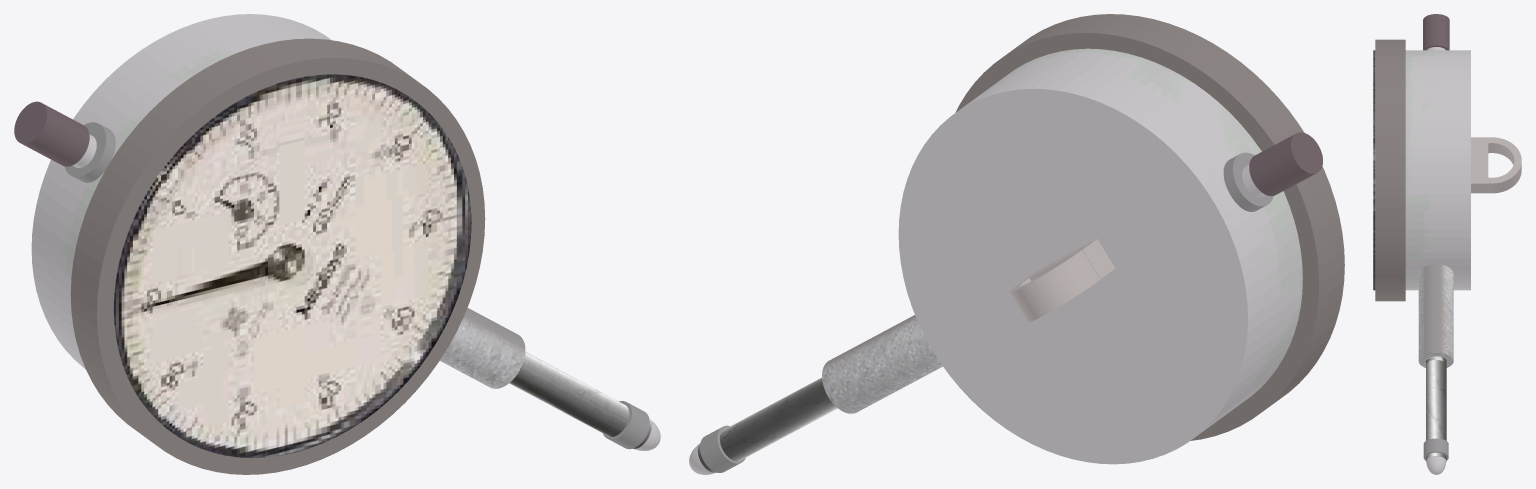
File: model.opt.glb
3 renders of one model, left to right at view 1: azimuth 30°, elevation 25°; view 2: azimuth 150°, elevation 25°; view 3: azimuth 270°, elevation 25°, orthographic. The views are drawn at different scales.
Visible parts, largest first — view 1: root_Material_155_0, root_Material_159_0, root_Material_153_0, root_Material_157_0, root_Material_165_0, root_Material_169_0, root_Material_161_0; view 2: root_Material_155_0, root_Material_159_0, root_Material_157_0, root_Material_153_0, root_Material_171_0, root_Material_165_0, root_Material_169_0, root_Material_161_0, root_Material_173_0; view 3: root_Material_155_0, root_Material_159_0, root_Material_157_0, root_Material_153_0, root_Material_171_0, root_Material_165_0, root_Material_173_0, root_Material_161_0, root_Material_163_0.
Boxes of the visible parts, left/top/right/bottom form: root_Material_155_0: left=31, top=14, right=471, bottom=457; root_Material_159_0: left=70, top=38, right=485, bottom=474; root_Material_153_0: left=509, top=352, right=651, bottom=448; root_Material_157_0: left=440, top=307, right=525, bottom=388; root_Material_165_0: left=14, top=101, right=89, bottom=166; root_Material_169_0: left=64, top=122, right=115, bottom=182; root_Material_161_0: left=603, top=401, right=649, bottom=449; root_Material_155_0: left=898, top=48, right=1302, bottom=464; root_Material_159_0: left=955, top=14, right=1344, bottom=440; root_Material_157_0: left=822, top=315, right=942, bottom=413; root_Material_153_0: left=697, top=377, right=837, bottom=472; root_Material_171_0: left=1009, top=243, right=1101, bottom=322; root_Material_165_0: left=1249, top=132, right=1322, bottom=196; root_Material_169_0: left=1223, top=152, right=1273, bottom=211; root_Material_161_0: left=700, top=425, right=745, bottom=472; root_Material_173_0: left=1028, top=239, right=1115, bottom=280; root_Material_155_0: left=1373, top=50, right=1470, bottom=290; root_Material_159_0: left=1375, top=39, right=1405, bottom=301; root_Material_157_0: left=1418, top=264, right=1453, bottom=367; root_Material_153_0: left=1426, top=356, right=1446, bottom=461; root_Material_171_0: left=1471, top=137, right=1521, bottom=193; root_Material_165_0: left=1423, top=14, right=1449, bottom=50; root_Material_173_0: left=1471, top=137, right=1488, bottom=193; root_Material_161_0: left=1423, top=438, right=1448, bottom=460; root_Material_163_0: left=1426, top=456, right=1446, bottom=474.
Size of the model in its own units: 0.1991 by 0.1558 by 0.0686.
8 materials, 4 textured.
